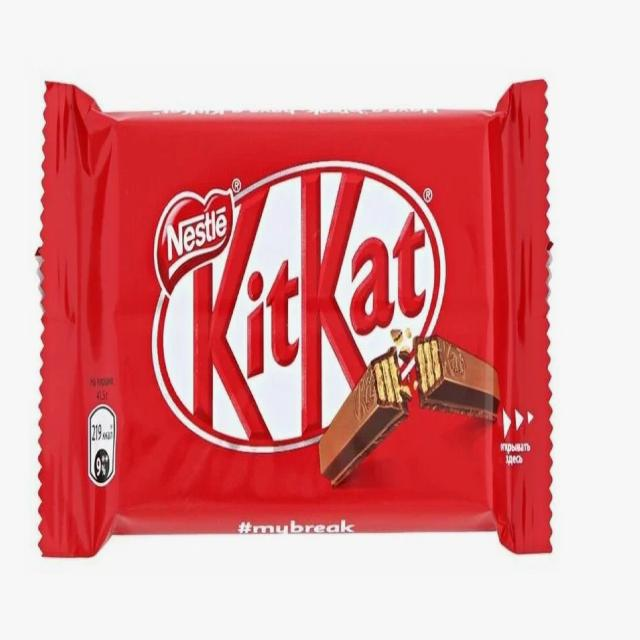supermarket-product: (130, 140, 496, 552)
